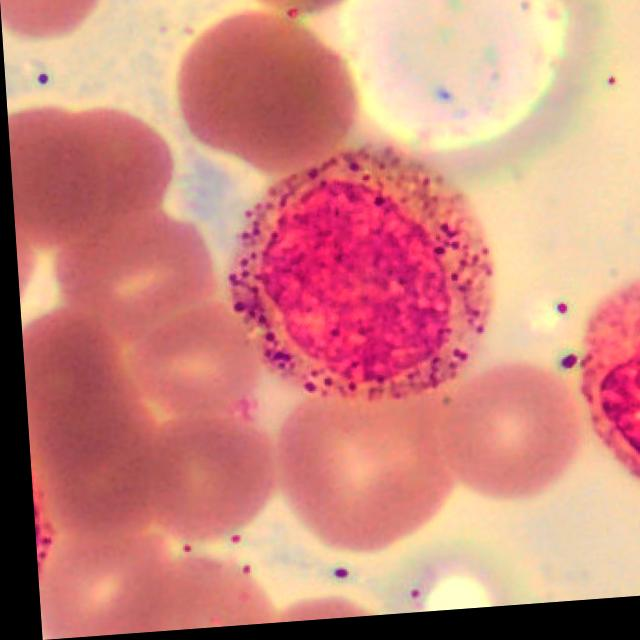Promielocito: (224, 157, 491, 409)
